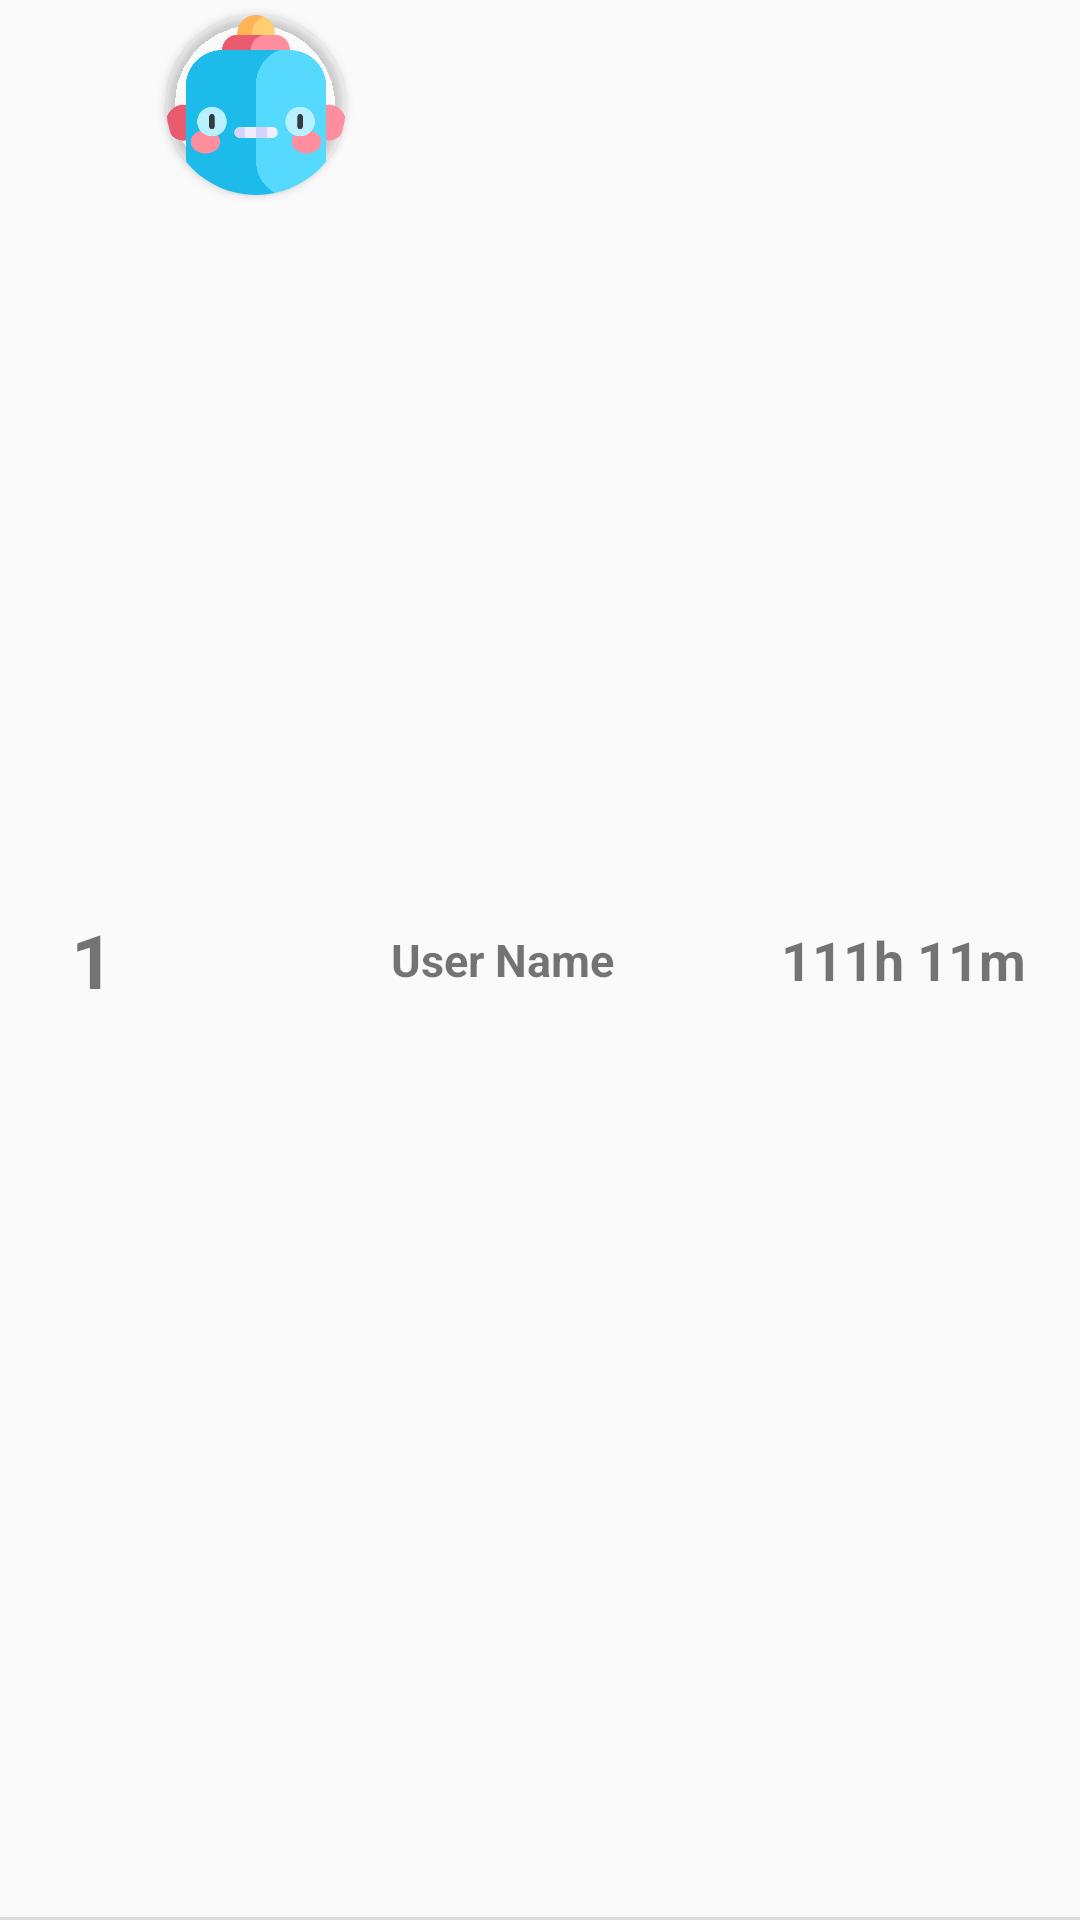

Icons on this 1080×1920 Android screen, each with its box as (x1, y1, x2, y2):
defaultavater: (166, 15, 345, 195)
